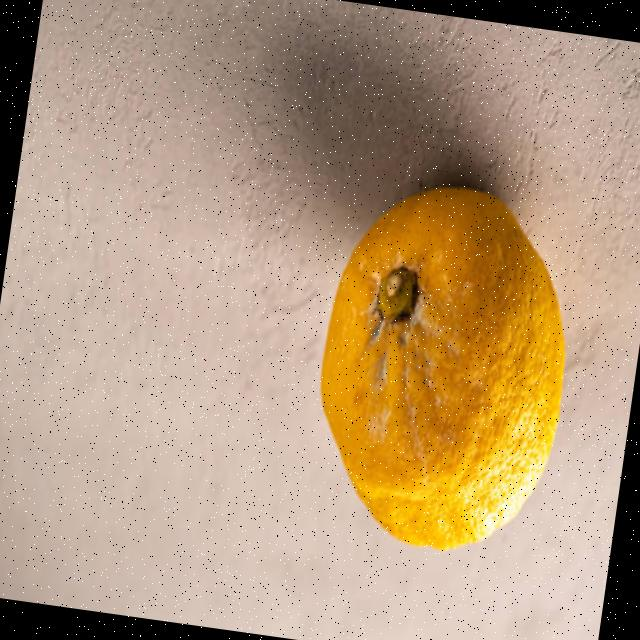overripe: (298, 167, 588, 564)
